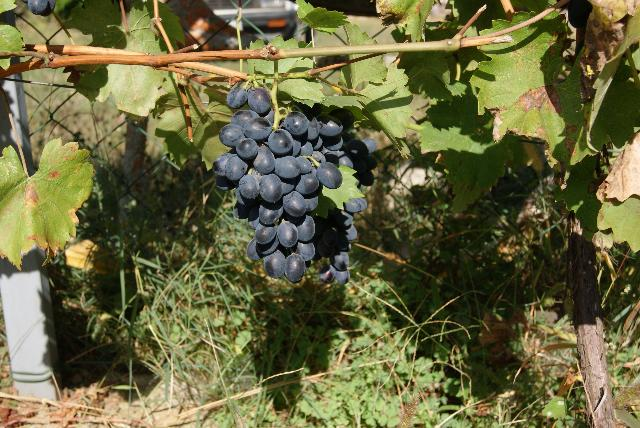grapes: (212, 88, 328, 282), (316, 109, 378, 188), (320, 198, 368, 282)
